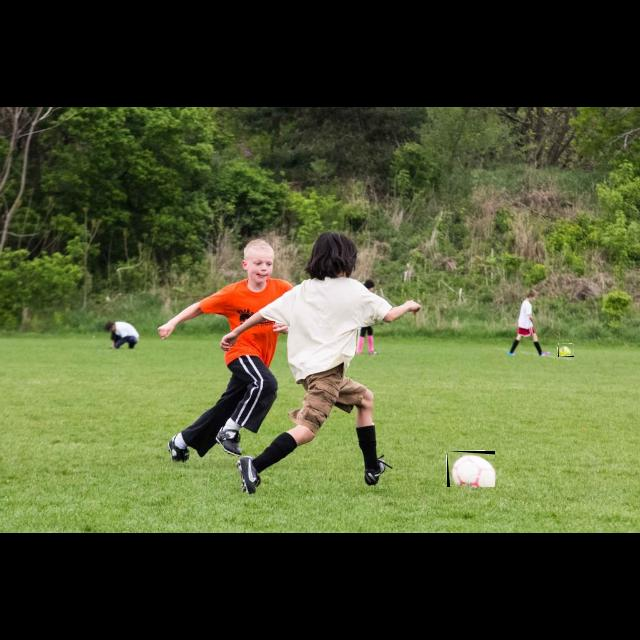Football: (447, 451, 495, 487), (558, 343, 574, 357)
